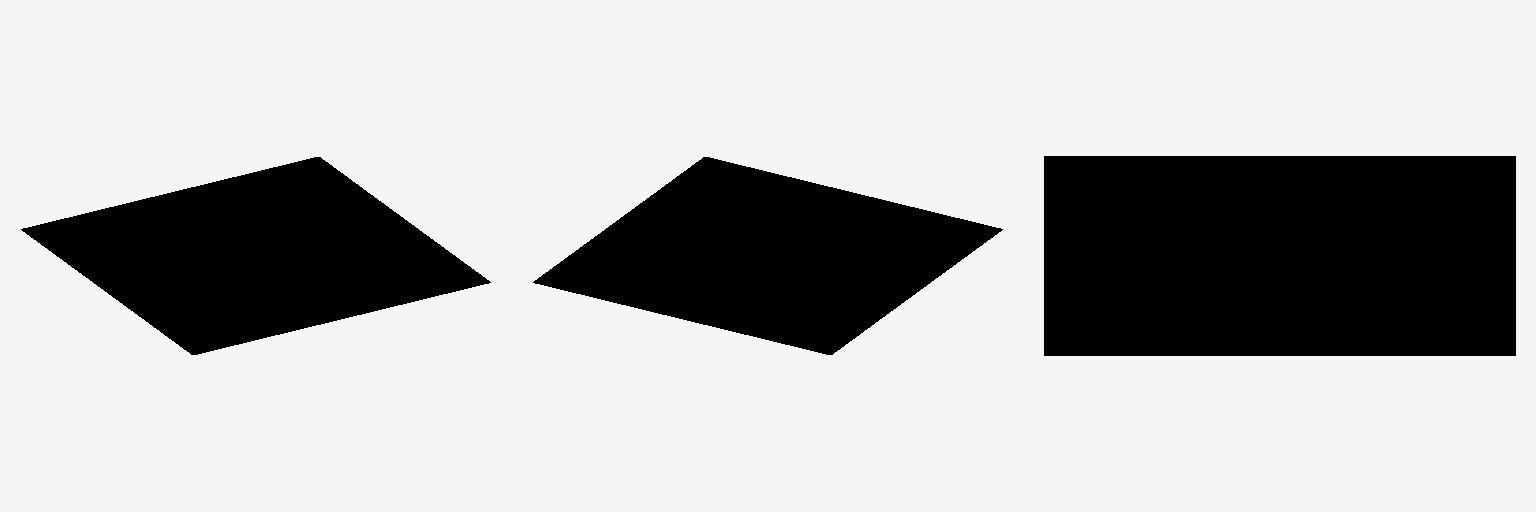
robot.urdf — plane:
<?xml version="0.0" ?>
<robot name="plane">
  <link name="planeLink">
  <contact>
      <lateral_friction value="1"/>
  </contact>
    <inertial>
      <origin rpy="0 0 0" xyz="0 0 0"/>
       <mass value=".0"/>
       <inertia ixx="0" ixy="0" ixz="0" iyy="0" iyz="0" izz="0"/>
    </inertial>
    <visual>
      <origin rpy="0 0 0" xyz="0 0 0"/>
      <geometry>
				<box size="14 14 0.01"/>
      </geometry>
       <material name="white">
        <color rgba="0 0 0 1"/>
      </material>
    </visual>
    <collision>
      <origin rpy="0 0 0" xyz="0 0 0"/>
      <geometry>
	 	<box size="14 14 0.1"/>
      </geometry>
    </collision>
  </link>
</robot>

--- Render facts (derived) ---
3 views of the same robot in one strip: view 1: azimuth 30°, elevation 25°; view 2: azimuth 150°, elevation 25°; view 3: azimuth 270°, elevation 25° (orthographic).
Robot: plane — 1 links, 0 joints (none); root link planeLink; default pose: every joint at zero.
Links seen in each view (by area): view 1: planeLink; view 2: planeLink; view 3: planeLink.
Link boxes in pixels (box(x1,y1,x2,y2)): planeLink: box(21, 157, 490, 354); planeLink: box(533, 157, 1002, 354); planeLink: box(1044, 156, 1515, 355).
Bounding box of the posed robot: 14 × 14 × 0.01 m (x, y, z).
Geometry: primitives only (box / cylinder / sphere), no mesh files.
